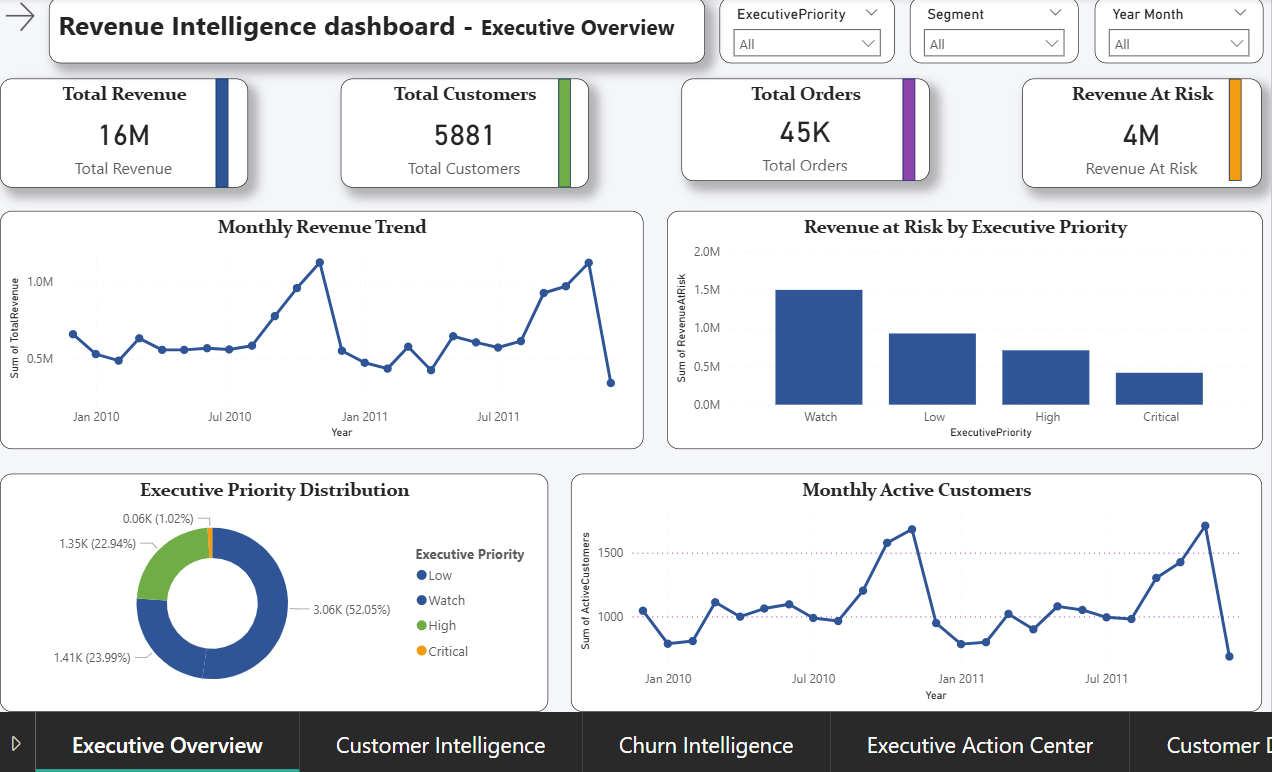

Layout of this report page (visuals, bound fields, positions):
{"tool":"powerbi","page":{"name":"Executive Overview","canvas":[1280,720],"ordinal":0},"visuals":[{"type":"card","title":"Total Revenue","fields":{"Values":["monthly_business_summary.Total Revenue"]},"box":[0,81.8,249.8,109.8],"z":0},{"type":"card","title":"Total Customers","fields":{"Values":["revenue_at_risk.Total Customers"]},"box":[343.2,81.8,249.8,109.8],"z":1000},{"type":"card","title":"Total Orders","fields":{"Values":["monthly_business_summary.Total Orders"]},"box":[686.3,81.8,249.8,103.4],"z":2000},{"type":"card","title":"Revenue At Risk","fields":{"Values":["revenue_at_risk.Revenue At Risk"]},"box":[1029.5,81.8,241.2,109.8],"z":3000},{"type":"lineChart","title":"Monthly Revenue Trend","fields":{"Category":["monthly_business_summary.YearMonth.Variation.Date Hierarchy.Year","monthly_business_summary.YearMonth.Variation.Date Hierarchy.Quarter","monthly_business_summary.YearMonth.Variation.Date Hierarchy.Month","monthly_business_summary.YearMonth.Variation.Date Hierarchy.Day"],"Y":["Sum(monthly_business_summary.TotalRevenue)"]},"box":[0,216,648,240],"z":4000},{"type":"lineChart","title":"Monthly Active Customers","fields":{"Category":["monthly_business_summary.YearMonth.Variation.Date Hierarchy.Year","monthly_business_summary.YearMonth.Variation.Date Hierarchy.Quarter","monthly_business_summary.YearMonth.Variation.Date Hierarchy.Month","monthly_business_summary.YearMonth.Variation.Date Hierarchy.Day"],"Y":["Sum(monthly_business_summary.ActiveCustomers)"]},"box":[576,480,696,240],"z":5000},{"type":"donutChart","title":"Executive Priority Distribution","fields":{"Category":["revenue_at_risk.ExecutivePriority"],"Y":["CountNonNull(revenue_at_risk.Customer ID)"]},"box":[0,480,552,240],"z":6000},{"type":"slicer","title":"Revenue at Risk by Executive Priority","fields":{"Values":["revenue_at_risk.ExecutivePriority"]},"box":[725.8,0,176.6,66.8],"z":7000},{"type":"slicer","fields":{"Values":["rfm_customers.Segment"]},"box":[917.5,0,170.1,66.8],"z":8000},{"type":"slicer","fields":{"Values":["monthly_business_summary.YearMonth"]},"box":[1102.7,0,170.1,66.8],"z":9000},{"type":"clusteredColumnChart","title":"Revenue at Risk by Executive Priority","fields":{"Category":["revenue_at_risk.ExecutivePriority"],"Y":["Sum(revenue_at_risk.RevenueAtRisk)"]},"box":[672,216,600,240],"z":10000},{"type":"textbox","box":[49.5,0,661.2,66.8],"z":11000},{"type":"shape","box":[217.5,81.8,12.9,109.8],"z":12000},{"type":"shape","box":[562.1,81.8,12.9,109.8],"z":13000},{"type":"shape","box":[908.9,81.8,12.9,103.4],"z":14000},{"type":"shape","box":[1238.4,81.8,12.9,103.4],"z":15000},{"type":"actionButton","box":[0,0,100,40],"z":16000}]}

Visuals, with their boxes on the page's 1280x720 design canvas (x1, y1, x2, y2). These are canvas units, not pixel positions in the 1272x772 screenshot, which may show the page scaled, cropped or inside an application window:
"Total Revenue" card: left=0, top=82, right=250, bottom=192
"Total Customers" card: left=343, top=82, right=593, bottom=192
"Total Orders" card: left=686, top=82, right=936, bottom=185
"Revenue At Risk" card: left=1030, top=82, right=1271, bottom=192
"Monthly Revenue Trend" lineChart: left=0, top=216, right=648, bottom=456
"Monthly Active Customers" lineChart: left=576, top=480, right=1272, bottom=720
"Executive Priority Distribution" donutChart: left=0, top=480, right=552, bottom=720
"Revenue at Risk by Executive Priority" slicer: left=726, top=0, right=902, bottom=67
slicer - rfm_customers.Segment: left=918, top=0, right=1088, bottom=67
slicer - monthly_business_summary.YearMonth: left=1103, top=0, right=1273, bottom=67
"Revenue at Risk by Executive Priority" clusteredColumnChart: left=672, top=216, right=1272, bottom=456
textbox: left=50, top=0, right=711, bottom=67
shape: left=218, top=82, right=230, bottom=192
shape: left=562, top=82, right=575, bottom=192
shape: left=909, top=82, right=922, bottom=185
shape: left=1238, top=82, right=1251, bottom=185
actionButton: left=0, top=0, right=100, bottom=40
